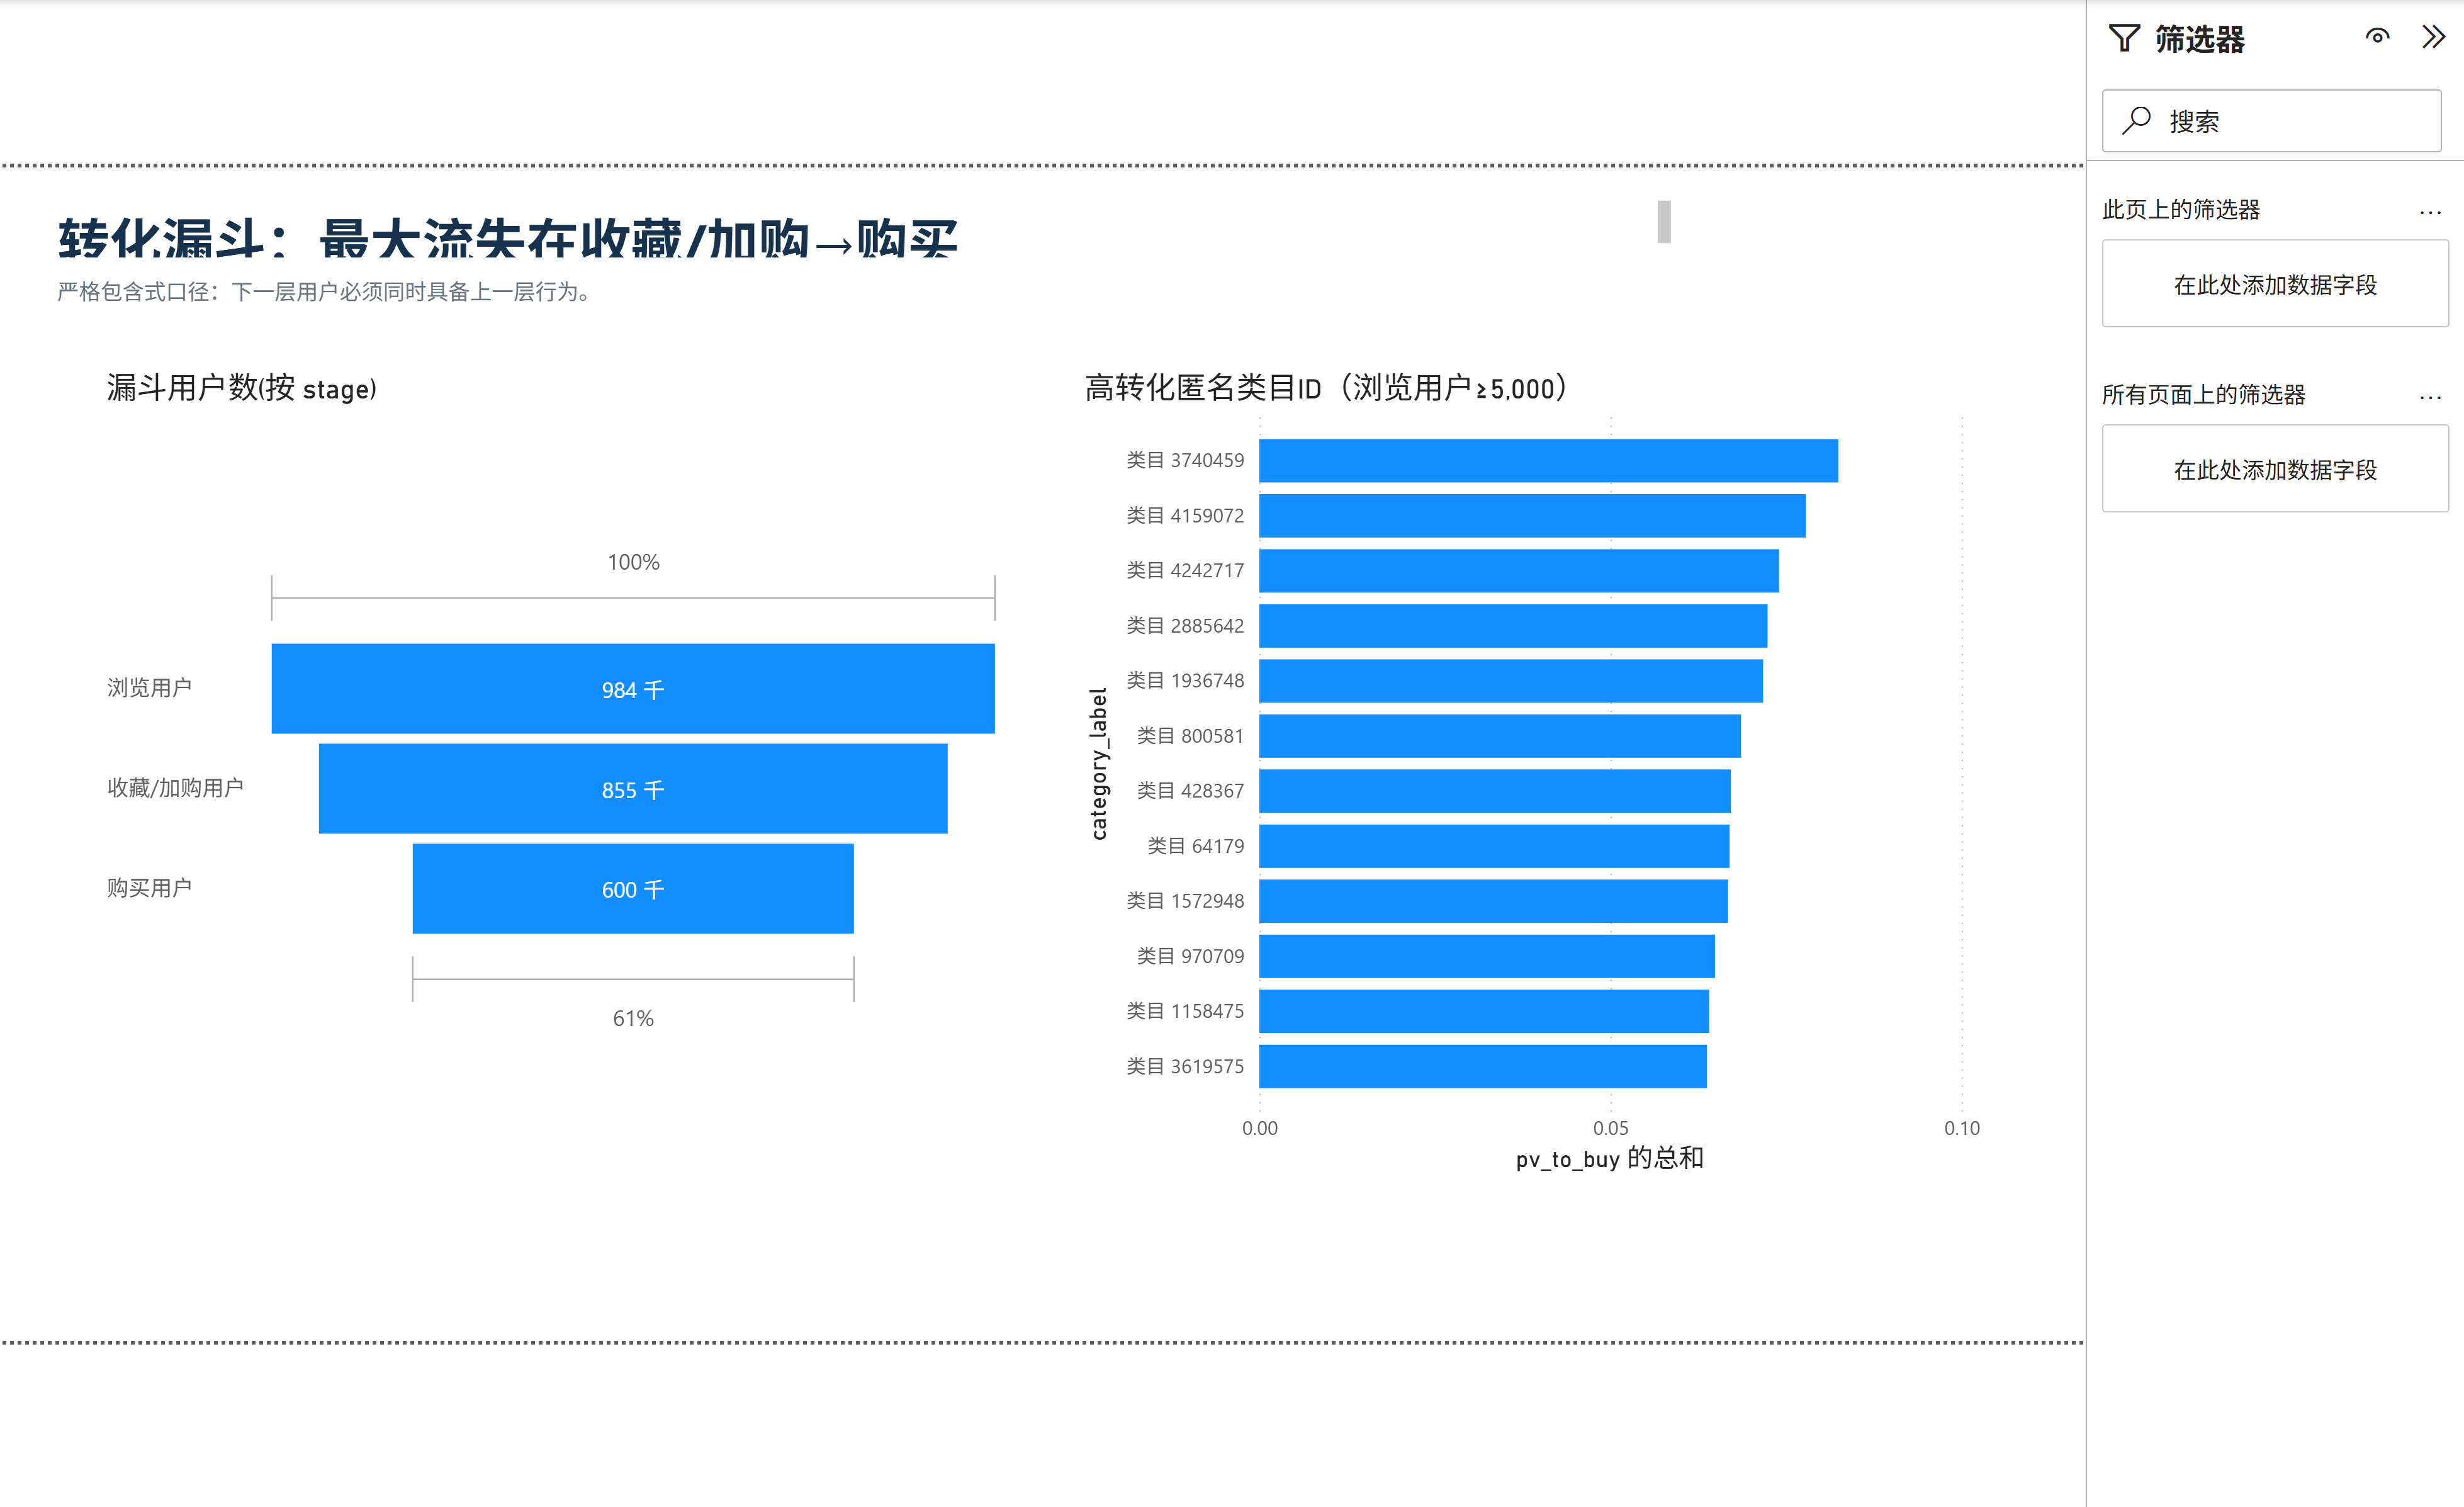

Layout of this report page (visuals, bound fields, positions):
{"tool":"powerbi","page":{"name":"转化漏斗","canvas":[1280,720],"ordinal":1},"visuals":[{"type":"textbox","box":[30,15,1000,45],"z":1},{"type":"textbox","box":[30,60,1200,30],"z":1},{"type":"barChart","title":"高转化匿名类目ID（浏览用户≥5,000）","fields":{"Category":["TopCategory.category_label"],"Y":["Sum(TopCategory.pv_to_buy)"]},"box":[660,120,560,500],"z":3},{"type":"funnel","fields":{"Category":["FunnelOverall.stage"],"Y":["FunnelOverall.漏斗用户数"]},"box":[60,120,560,500],"z":4}]}

Visuals, with their boxes on the page's 1280x720 design canvas (x1, y1, x2, y2). These are canvas units, not pixel positions in the 2464x1507 screenshot, which may show the page scaled, cropped or inside an application window:
textbox: <bbox>30, 15, 1030, 60</bbox>
textbox: <bbox>30, 60, 1230, 90</bbox>
"高转化匿名类目ID（浏览用户≥5,000）" barChart: <bbox>660, 120, 1220, 620</bbox>
funnel - FunnelOverall.stage x FunnelOverall.漏斗用户数: <bbox>60, 120, 620, 620</bbox>
